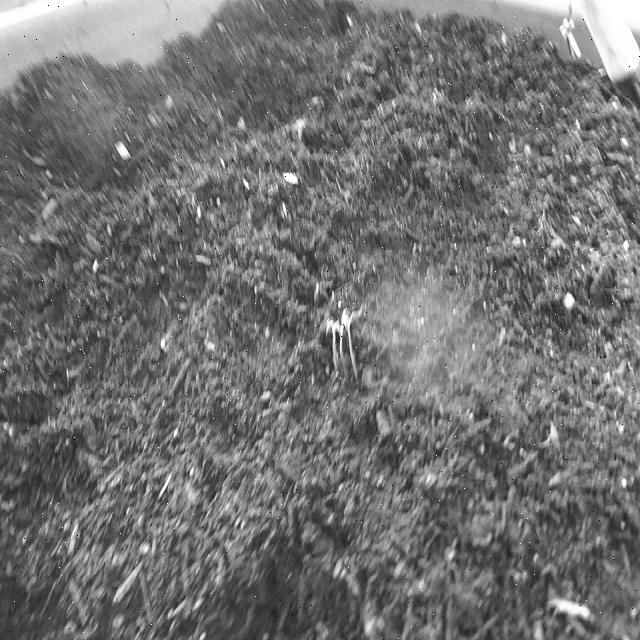Unhealthy: (321, 298, 371, 387)
